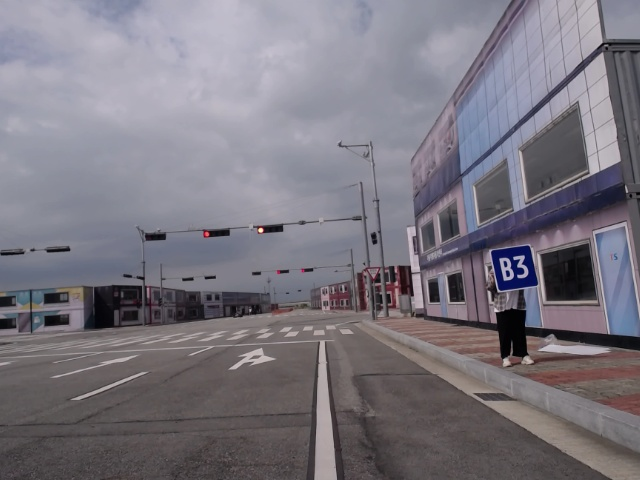delivery_b3: (487, 246, 539, 291)
red_4: (253, 221, 287, 235), (202, 226, 231, 239), (299, 266, 318, 275), (273, 268, 292, 275)
